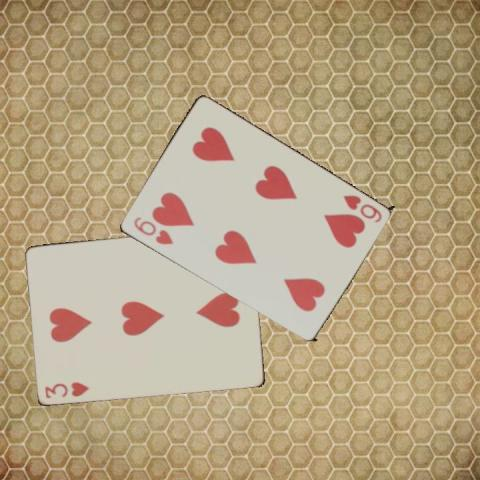3h: (42, 379, 91, 399)
6h: (130, 213, 174, 247), (340, 192, 383, 224)
